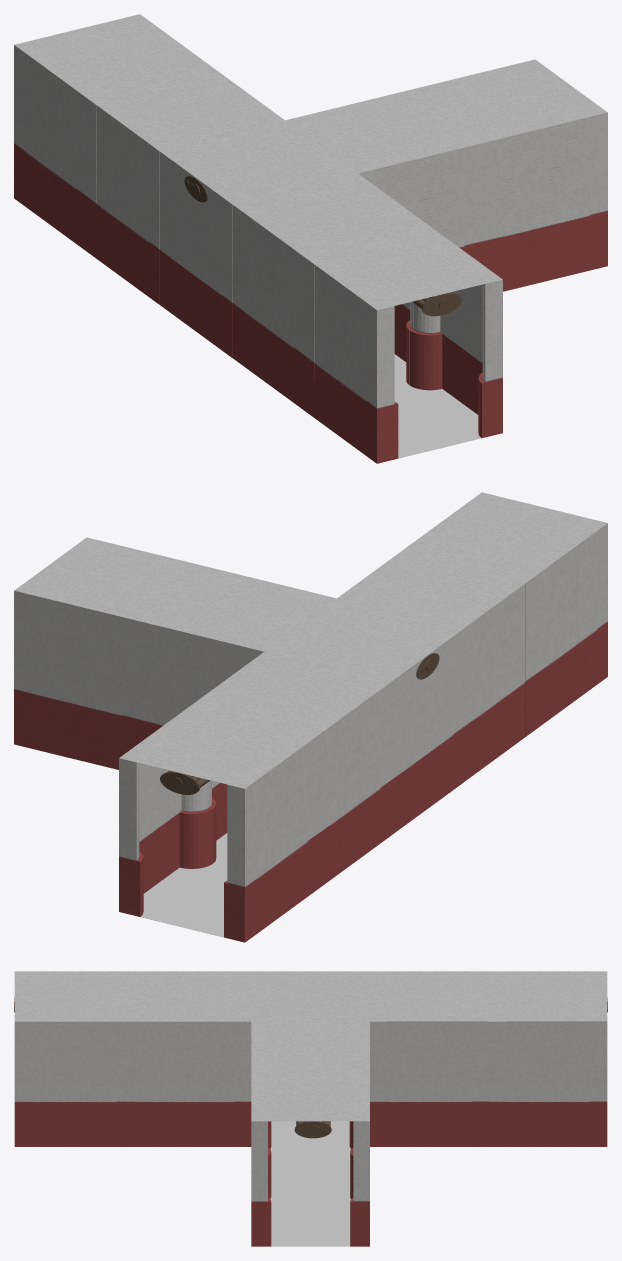
File: Level2(T).obj
The picture shows the model from 3 angles, top to bottom: view 1: azimuth 30°, elevation 25°; view 2: azimuth 150°, elevation 25°; view 3: azimuth 270°, elevation 25°; orthographic projection. The views are drawn at different scales.
Parts seen in each view (by area): view 1: Plane.025_Plane.040, Plane.027_Plane.042, Plane.022_Plane.037, Plane.024_Plane.039, Plane.023_Plane.038, Plane.026_Plane.041, Plane.028_Plane.043, Circle.102_Circle.178, Circle.104_Circle.180, Circle.111_Circle.187, Circle.101_Circle.177, Circle.110_Circle.186 (+11 smaller); view 2: Plane.024_Plane.039, Plane.027_Plane.042, Plane.023_Plane.038, Plane.025_Plane.040, Plane.022_Plane.037, Plane.026_Plane.041, Plane.028_Plane.043, Circle.098_Circle.174, Circle.100_Circle.176, Circle.109_Circle.185, Circle.097_Circle.173, Circle.112_Circle.188 (+11 smaller); view 3: Plane.025_Plane.040, Plane.024_Plane.039, Plane.023_Plane.038, Plane.022_Plane.037, Plane.027_Plane.042, Plane.028_Plane.043, Plane.026_Plane.041, Circle.097_Circle.173, Circle.104_Circle.180, Circle.092_Circle.168, Circle.111_Circle.187, Circle.109_Circle.185 (+6 smaller).
Boxes of the visible parts, bbox=[...] form: Plane.025_Plane.040: bbox=[305, 226, 502, 458]; Plane.027_Plane.042: bbox=[410, 59, 607, 291]; Plane.022_Plane.037: bbox=[232, 173, 429, 403]; Plane.024_Plane.039: bbox=[14, 14, 211, 243]; Plane.023_Plane.038: bbox=[87, 67, 284, 296]; Plane.026_Plane.041: bbox=[160, 120, 357, 350]; Plane.028_Plane.043: bbox=[284, 90, 482, 251]; Circle.102_Circle.178: bbox=[366, 303, 398, 463]; Circle.104_Circle.180: bbox=[478, 279, 502, 437]; Circle.111_Circle.187: bbox=[590, 112, 607, 270]; Circle.101_Circle.177: bbox=[409, 303, 442, 390]; Circle.110_Circle.186: bbox=[482, 139, 503, 291]; Plane.024_Plane.039: bbox=[119, 705, 317, 938]; Plane.027_Plane.042: bbox=[14, 537, 211, 769]; Plane.023_Plane.038: bbox=[192, 652, 389, 880]; Plane.025_Plane.040: bbox=[409, 492, 607, 720]; Plane.022_Plane.037: bbox=[337, 545, 534, 773]; Plane.026_Plane.041: bbox=[265, 598, 462, 826]; Plane.028_Plane.043: bbox=[140, 568, 337, 727]; Circle.098_Circle.174: bbox=[224, 782, 257, 942]; Circle.100_Circle.176: bbox=[119, 758, 143, 916]; Circle.109_Circle.185: bbox=[14, 590, 35, 749]; Circle.097_Circle.173: bbox=[179, 781, 212, 868]; Circle.112_Circle.188: bbox=[122, 617, 139, 755]; Plane.025_Plane.040: bbox=[14, 971, 133, 1146]; Plane.024_Plane.039: bbox=[488, 971, 607, 1146]; Plane.023_Plane.038: bbox=[370, 971, 488, 1146]; Plane.022_Plane.037: bbox=[133, 971, 250, 1146]; Plane.027_Plane.042: bbox=[251, 1071, 369, 1246]; Plane.028_Plane.043: bbox=[251, 1021, 369, 1196]; Plane.026_Plane.041: bbox=[251, 971, 369, 1146]; Circle.097_Circle.173: bbox=[488, 1021, 508, 1146]; Circle.104_Circle.180: bbox=[14, 1021, 34, 1146]; Circle.092_Circle.168: bbox=[132, 1021, 152, 1146]; Circle.111_Circle.187: bbox=[251, 1121, 271, 1246]; Circle.109_Circle.185: bbox=[350, 1121, 369, 1246].
Size of the model in its own units: 36.08 by 14.02 by 60.07.
Materials: 4 (3 with a texture image).
